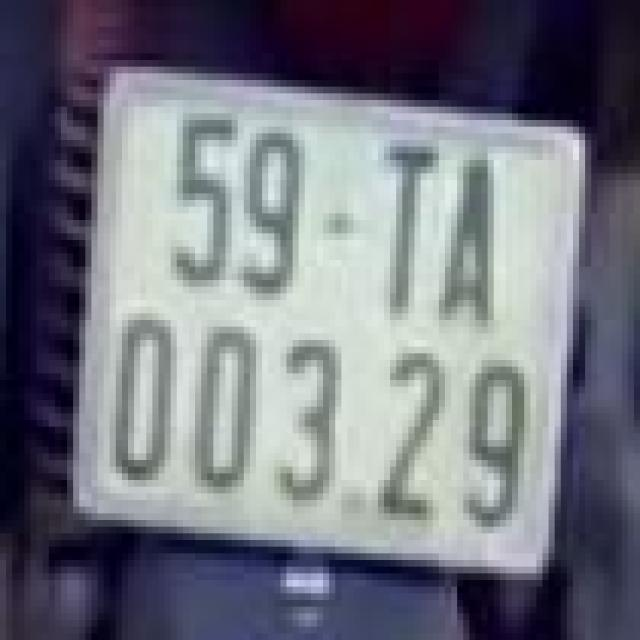0: (183, 320, 262, 500), (106, 310, 180, 490)
2: (369, 343, 448, 530)
3: (268, 330, 342, 523)
5: (158, 103, 238, 297)
9: (454, 347, 533, 540), (238, 123, 311, 310)
A: (439, 146, 506, 346)
T: (372, 130, 439, 337)
